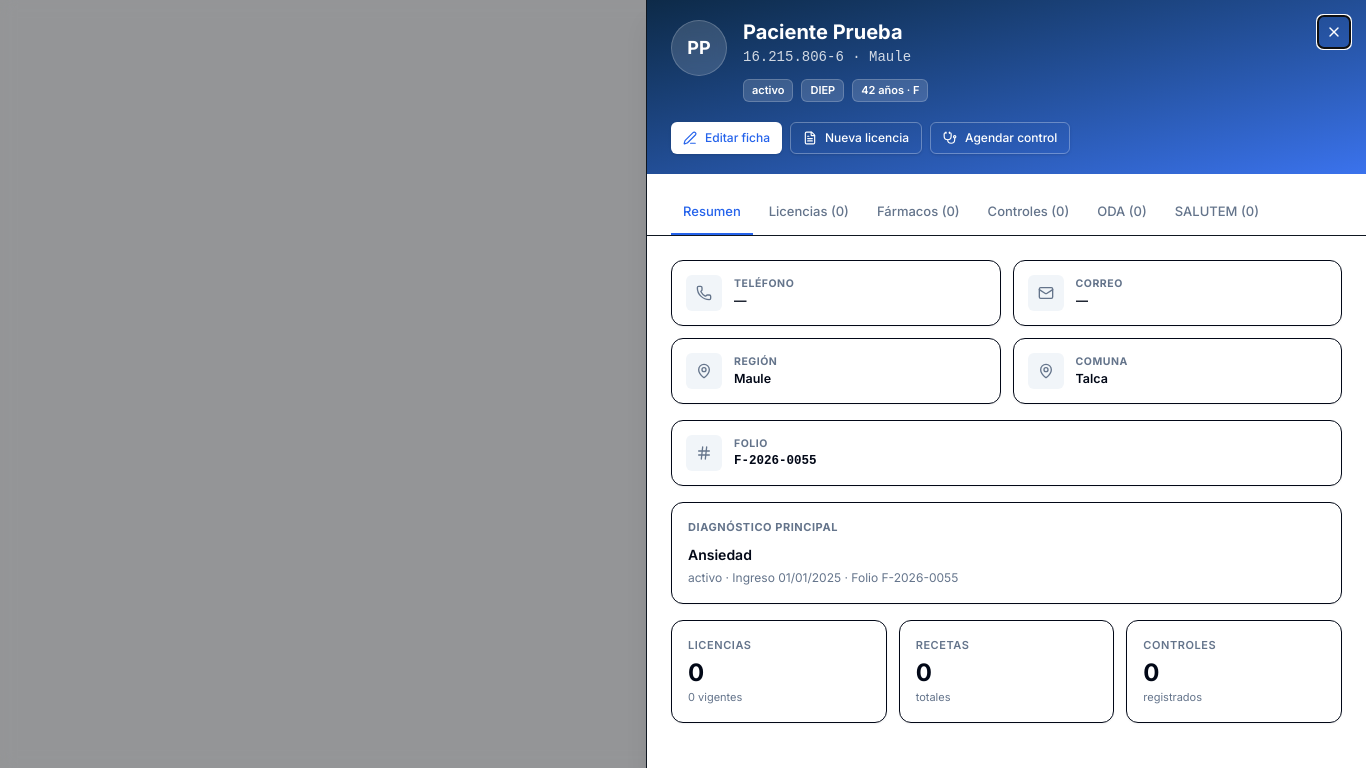
Test: PatientSheet — pestaña SALUTEM › si SALUTEM no tiene nada nuevo lo dice en vez de quedarse en silencio
Expected: the heading "Paciente Prueba" is shown, [743,20,902,44]
Click the tab "SALUTEM (0)" at x=1217, y=212, box [1163,190,1271,235]
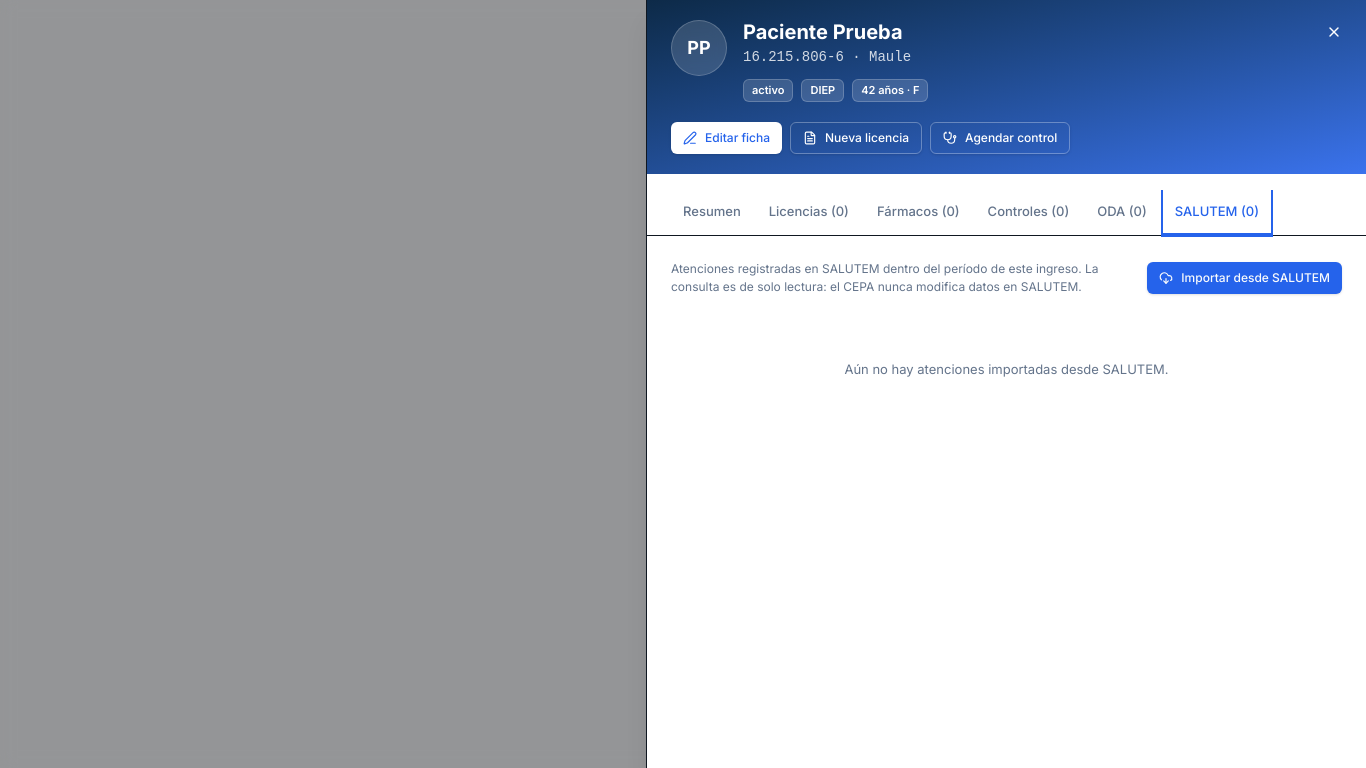
Click the button "Importar desde SALUTEM" at x=1245, y=278, box [1147,262,1342,294]
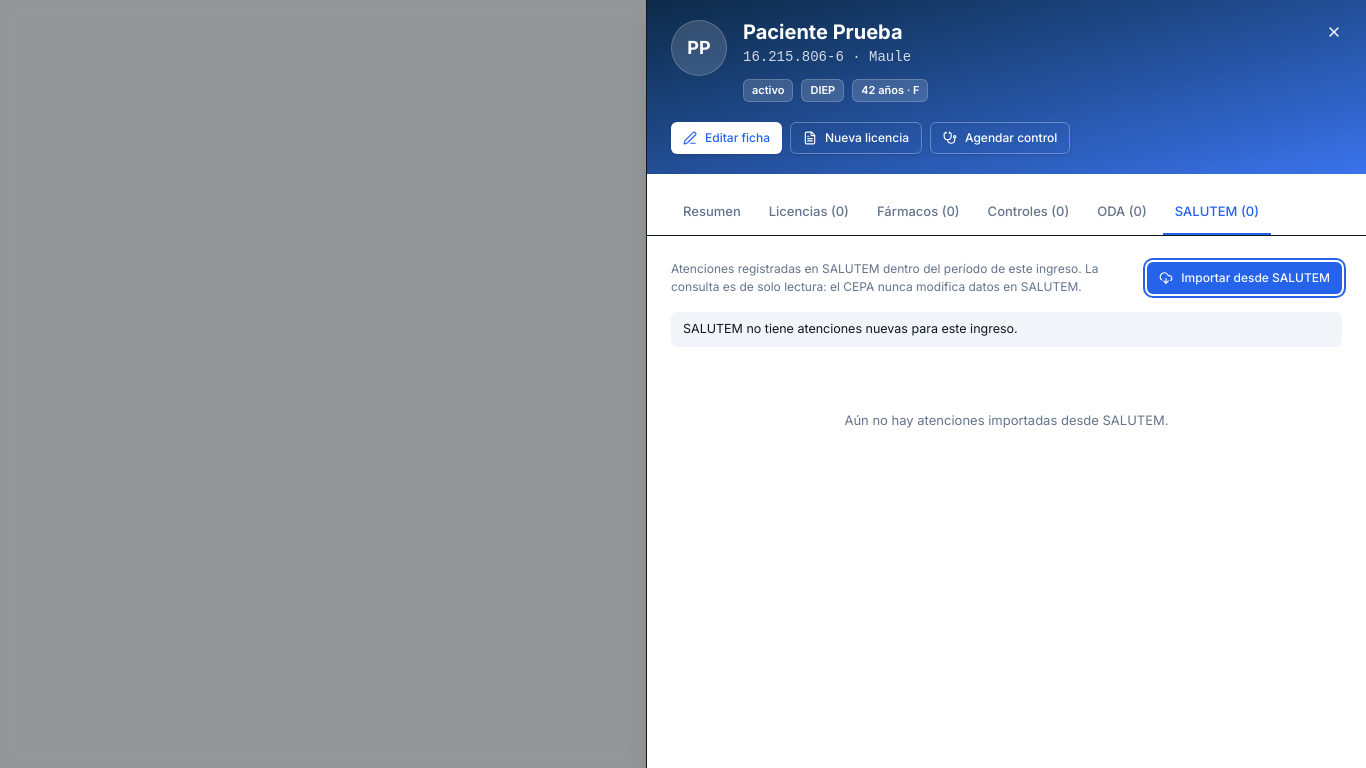
Expected: the message shows "no tiene atenciones nuevas", [683,321,1018,336]
